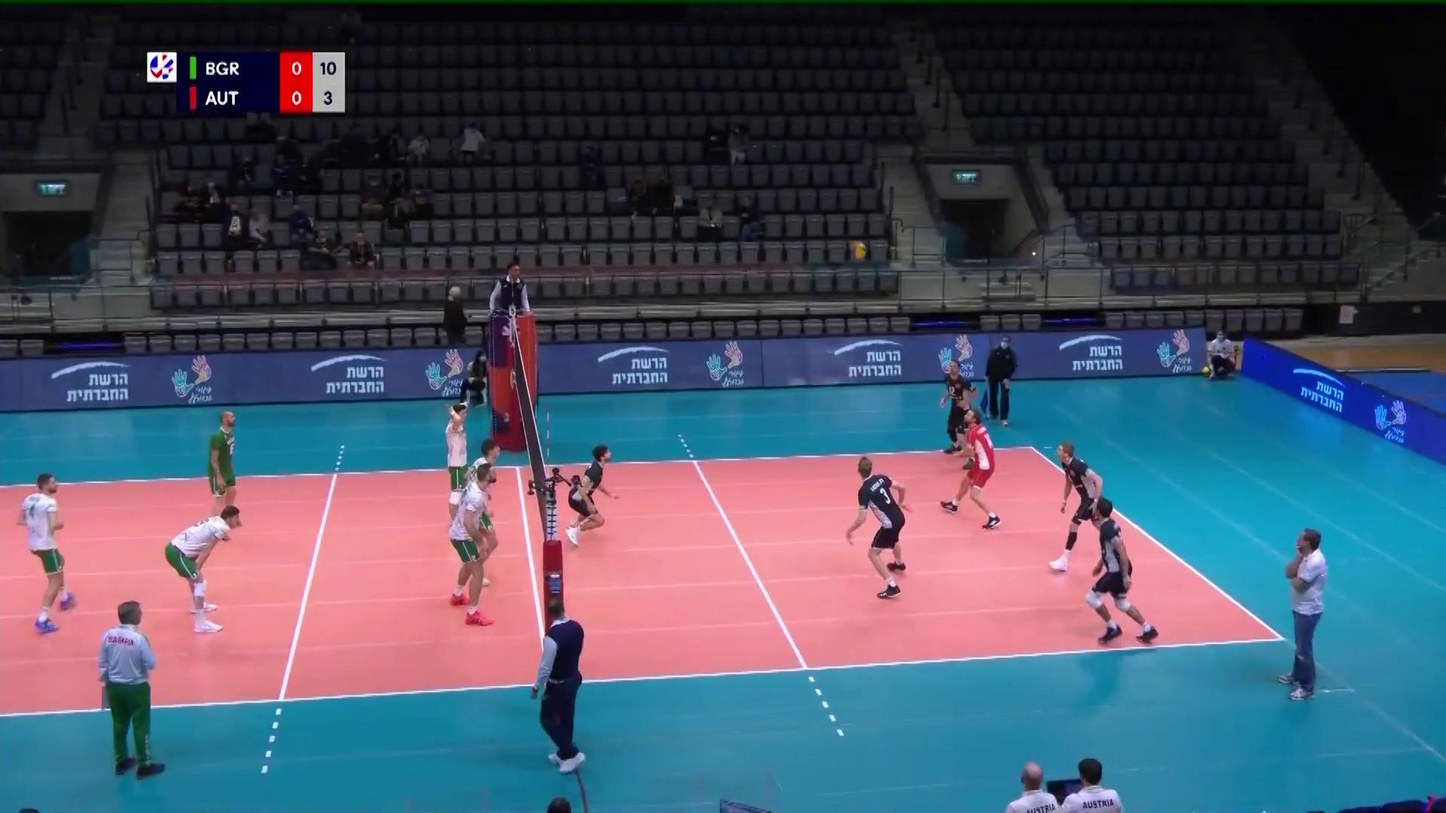ball: (852, 241, 868, 260)
